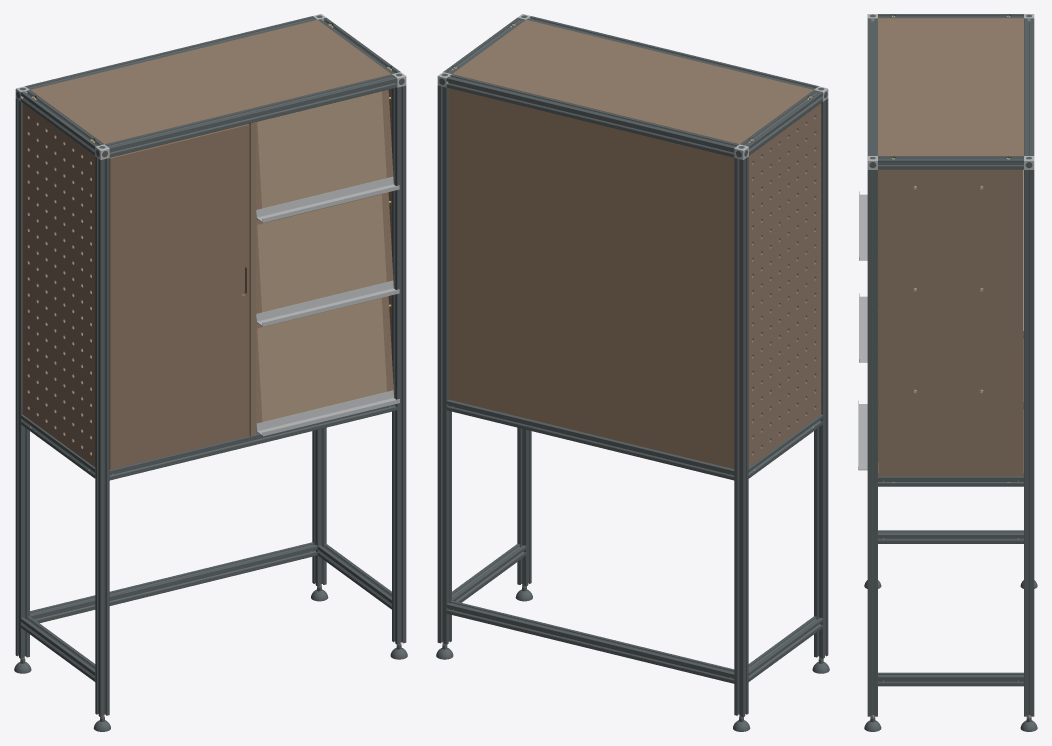
The model's file is candidate-24mm-closed.glb.
The picture shows the model from 3 angles, left to right: view 1: azimuth 30°, elevation 25°; view 2: azimuth 150°, elevation 25°; view 3: azimuth 270°, elevation 25°; orthographic projection.
Visible parts, largest first — view 1: Left-door-face-18, Left-pegboard-24, Top-18, Plywood-infill-6-1, Plywood-infill-6-2, Plywood-infill-6-3, Post-4-23, Post-966-23, Post-4-470, Beam-top-front, Beam-lower-rear, Beam-body-front (+14 smaller); view 2: Back-infill-8, Left-pegboard-24, Top-18, Post-4-470, Post-966-470, Post-4-23, Beam-top-rear, Beam-lower-rear, Beam-body-rear, Post-966-23, Beam-top-front, Beam-top-side-4 (+4 smaller); view 3: Right-wall-18, Top-18, Post-966-23, Post-966-470, Beam-lower-side-966, Beam-lower-side-4, Beam-top-side-966, Beam-body-side-966, Beam-top-rear, Beam-top-front, Beam-top-side-4, Display-ledge-1 (+2 smaller).
Boxes of the visible parts, box(x1,y1,x2,y2) form: Left-door-face-18: box(109, 124, 249, 469); Left-pegboard-24: box(22, 103, 95, 467); Top-18: box(30, 20, 391, 144); Plywood-infill-6-1: box(257, 298, 386, 421); Plywood-infill-6-2: box(257, 194, 386, 312); Plywood-infill-6-3: box(257, 91, 386, 208); Post-4-23: box(95, 156, 109, 717); Post-966-23: box(392, 85, 406, 644); Post-4-470: box(15, 98, 29, 658); Beam-top-front: box(105, 74, 397, 157); Beam-lower-rear: box(30, 542, 317, 623); Beam-body-front: box(109, 404, 397, 480); Back-infill-8: box(448, 88, 734, 468); Left-pegboard-24: box(748, 103, 821, 467); Top-18: box(452, 20, 813, 144); Post-4-470: box(734, 156, 748, 717); Post-966-470: box(437, 85, 451, 644); Post-4-23: box(814, 98, 828, 658); Beam-top-rear: box(446, 74, 738, 157); Beam-lower-rear: box(446, 600, 734, 683); Beam-body-rear: box(446, 399, 734, 480); Post-966-23: box(517, 427, 531, 586); Beam-top-front: box(526, 16, 818, 89); Beam-top-side-4: box(740, 90, 822, 155); Right-wall-18: box(878, 169, 1023, 476); Top-18: box(878, 18, 1023, 155); Post-966-23: box(867, 170, 877, 716); Post-966-470: box(1024, 170, 1034, 716); Beam-lower-side-966: box(878, 672, 1023, 686); Beam-lower-side-4: box(878, 530, 1023, 543); Beam-top-side-966: box(878, 156, 1023, 169); Beam-body-side-966: box(878, 473, 1023, 486); Beam-top-rear: box(1024, 18, 1034, 155); Beam-top-front: box(867, 18, 877, 155); Beam-top-side-4: box(878, 14, 1023, 18); Display-ledge-1: box(858, 400, 867, 470).
Bounding box in the file's own units: 1.01 × 1.8 × 0.5127.
